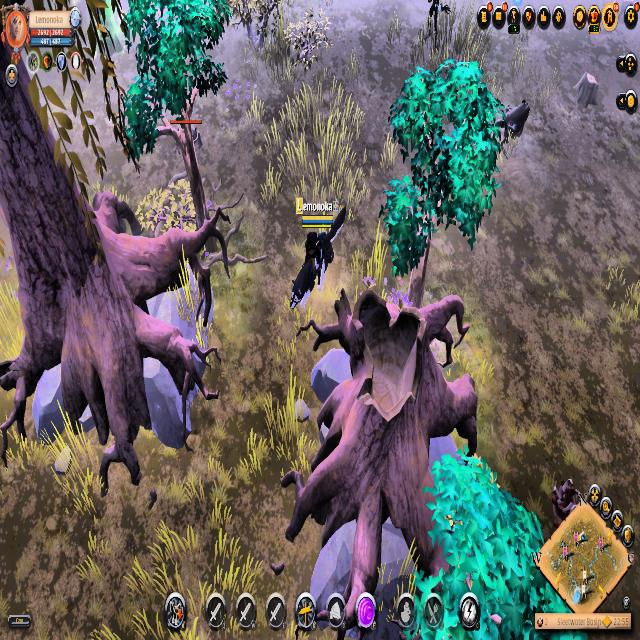wood tier 3: (383, 59, 505, 284)
